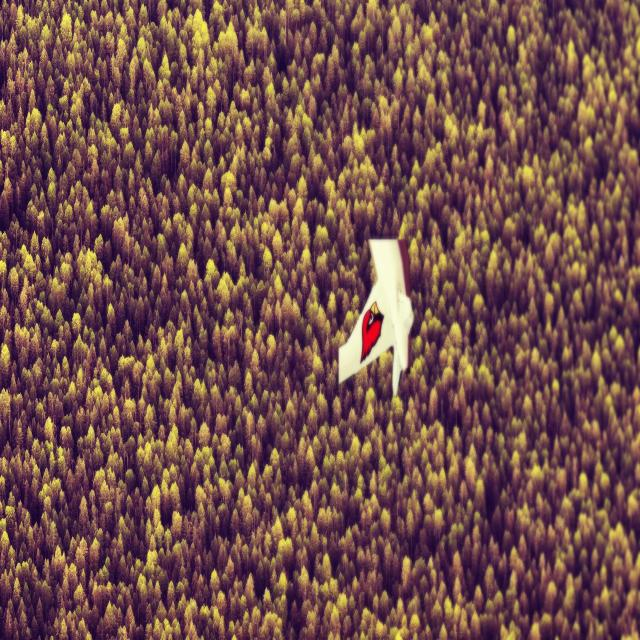airplane: (337, 237, 414, 398)
